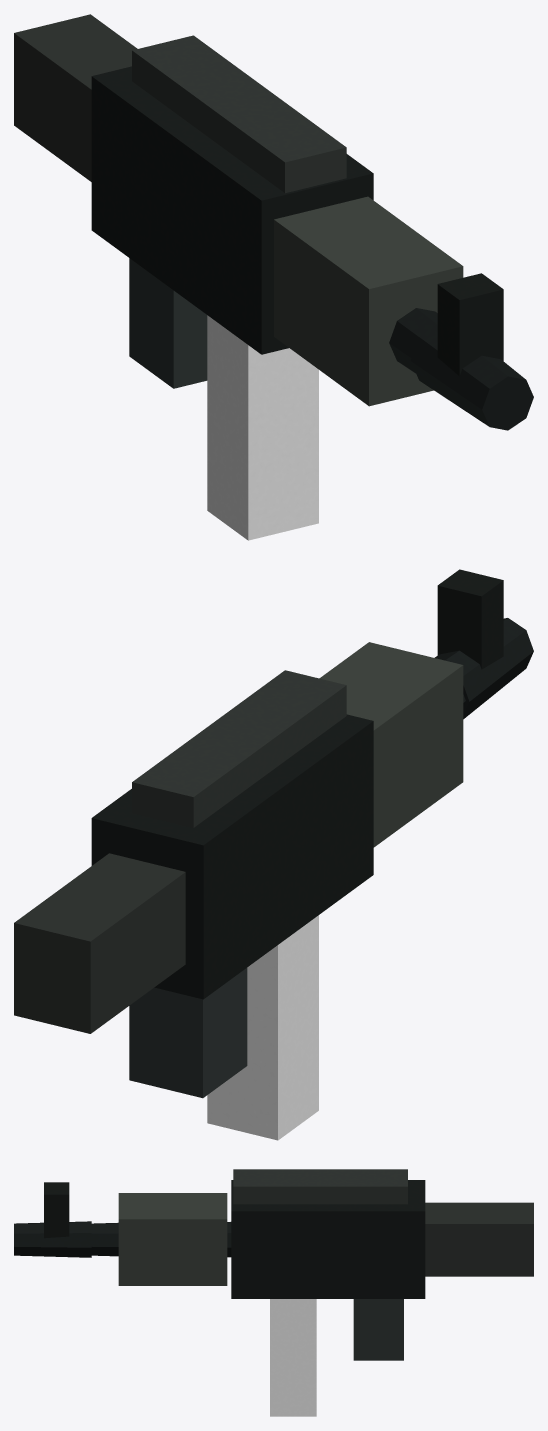
File: smg.glb
3 renders of one model, top to bottom at view 1: azimuth 30°, elevation 25°; view 2: azimuth 150°, elevation 25°; view 3: azimuth 270°, elevation 25°, orthographic. The views are drawn at different scales.
Parts seen in each view (by area): view 1: SMG; view 2: SMG; view 3: SMG.
Part boxes in pixels (bbox=[...]): SMG: bbox=[14, 14, 533, 540]; SMG: bbox=[14, 569, 533, 1140]; SMG: bbox=[14, 1169, 533, 1416].
Size of the model in its own units: 0.114 by 0.39 by 0.804.
3 materials, 2 textured.
